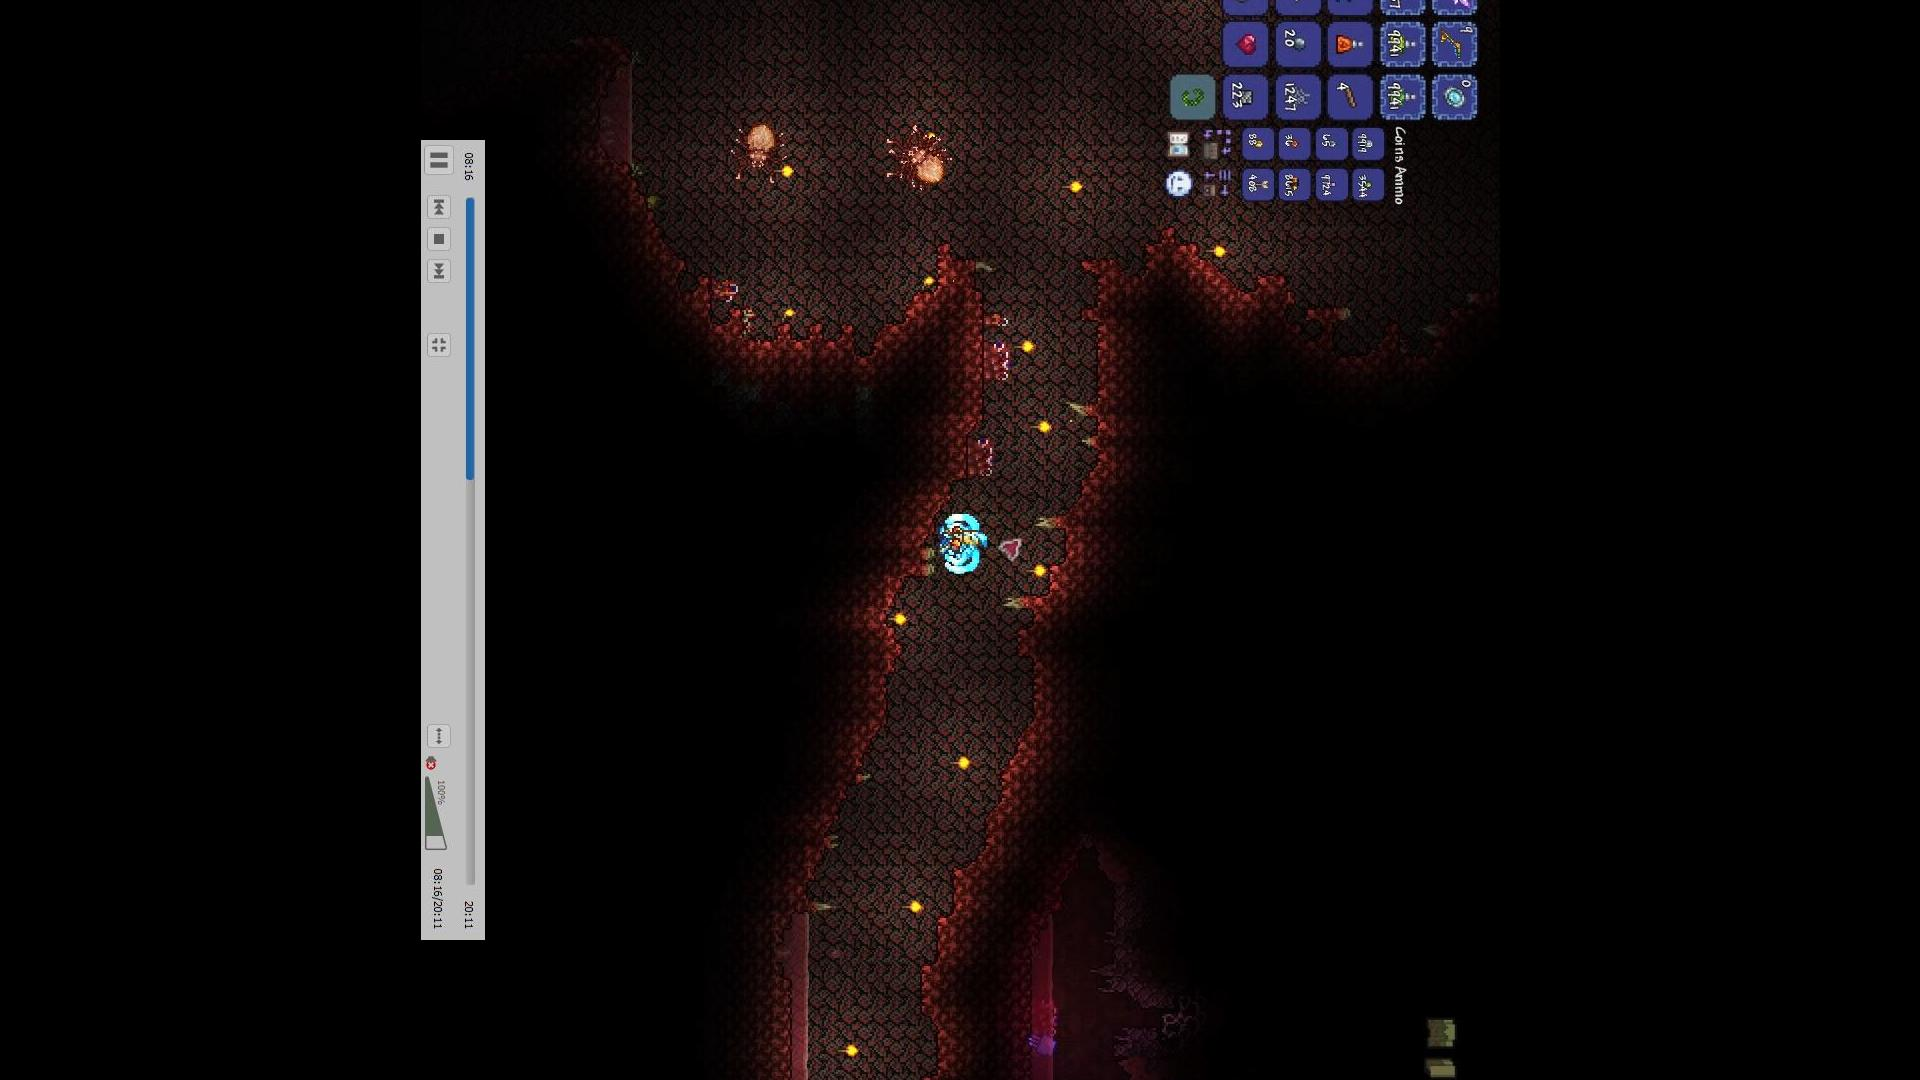altar: (960, 434, 1004, 481), (976, 339, 1015, 389), (1026, 996, 1063, 1044)
bomb: (1232, 0, 1255, 5)
cobwebI: (1283, 84, 1312, 113)
lifeC: (1233, 30, 1258, 55)
mirror: (1435, 82, 1470, 112)
ore: (1290, 33, 1309, 51)
spider: (873, 117, 963, 194), (727, 121, 791, 190)
